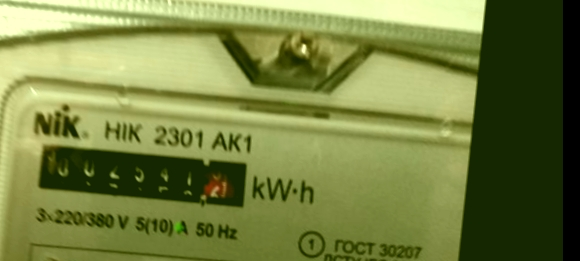0: (53, 153, 73, 181), (81, 153, 98, 181)
1: (181, 161, 196, 189)
2: (105, 155, 124, 182)
4: (157, 160, 172, 184)
5: (130, 157, 150, 187)
6: (207, 181, 223, 200)
screen: (25, 128, 264, 223)
